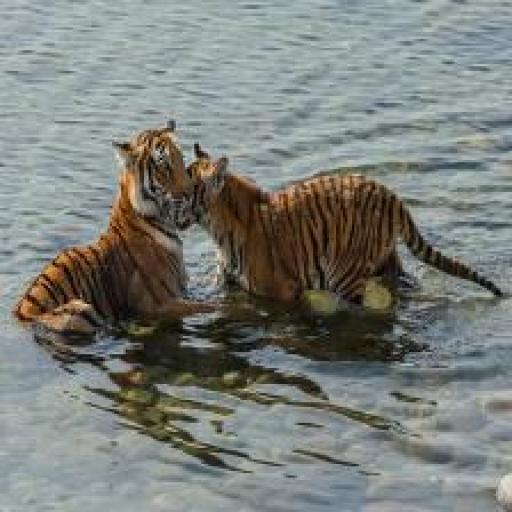Tiger: (180, 128, 508, 351), (2, 114, 196, 368)
